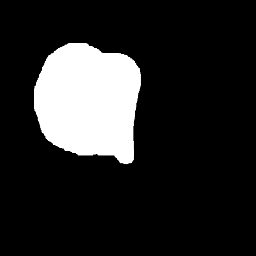mass: (37, 48, 133, 137)
